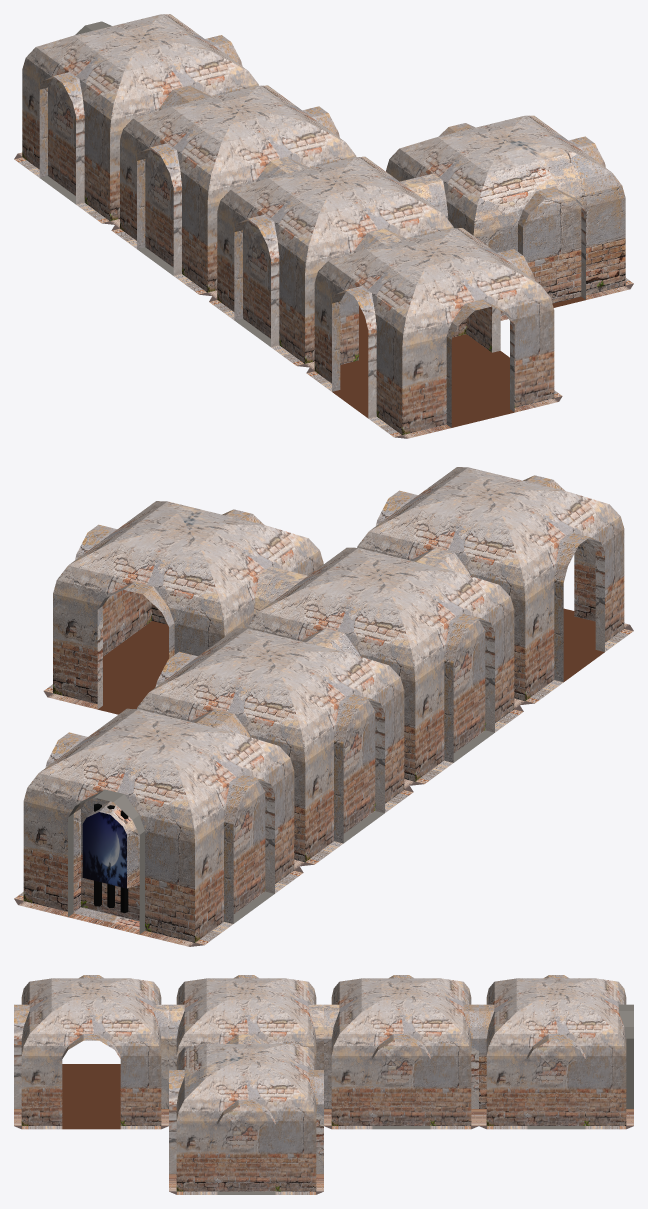
Rendered from maze_module v2.fbx.
3 renders of one model, top to bottom at view 1: azimuth 30°, elevation 25°; view 2: azimuth 150°, elevation 25°; view 3: azimuth 270°, elevation 25°, orthographic. The views are drawn at different scales.
Parts seen in each view (by area): view 1: cross, turn, tries, loop, tunel; view 2: loop, turn, tunel, tries, cross; view 3: loop, tunel, turn, cross, tries.
Part boxes in pixels (box(x1,y1,x2,y2)): cross: box(306, 228, 562, 438); turn: box(386, 115, 633, 320); tries: box(209, 156, 453, 367); loop: box(14, 14, 258, 224); tunel: box(111, 85, 356, 296); loop: box(14, 708, 303, 946); turn: box(43, 501, 323, 714); tunel: box(137, 628, 413, 866); tries: box(247, 547, 523, 785); cross: box(357, 467, 633, 705); loop: box(479, 975, 633, 1129); tunel: box(324, 975, 478, 1129); turn: box(169, 1040, 323, 1194); cross: box(14, 975, 168, 1129); tries: box(169, 975, 323, 1069).
Bounding box in the file's own units: 800 × 300 × 1600.
